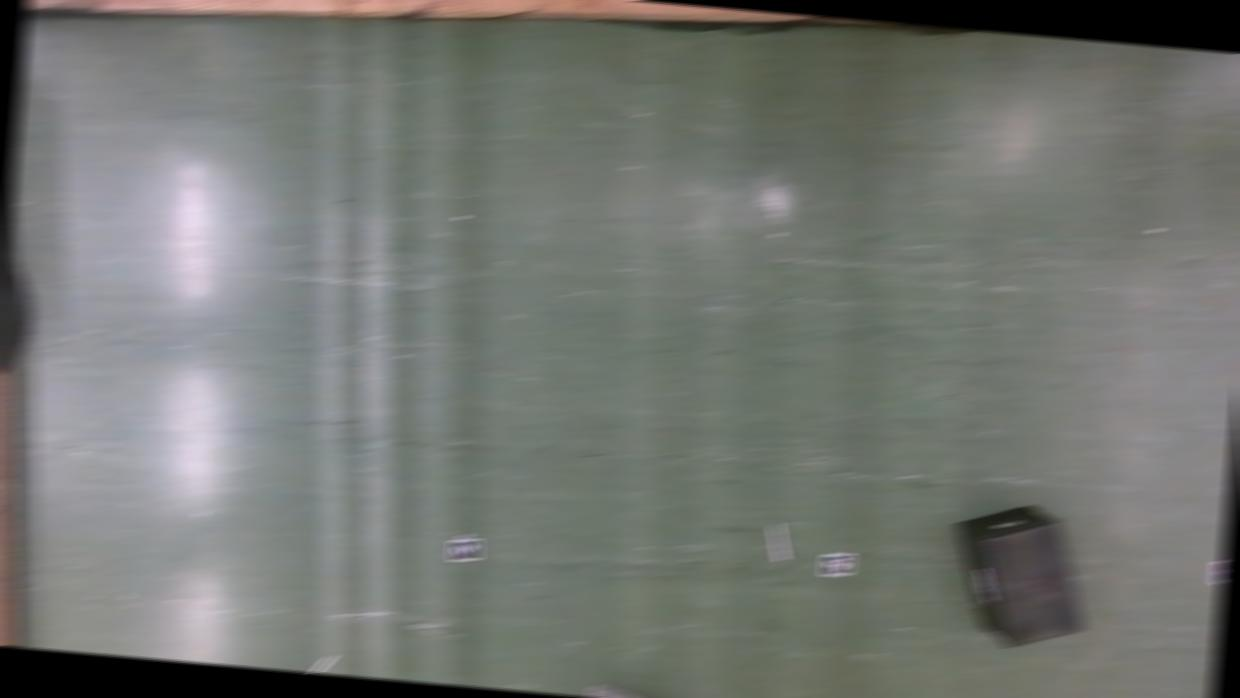probes: (766, 520, 790, 560), (306, 651, 336, 674)
rako: (945, 496, 1097, 652)
